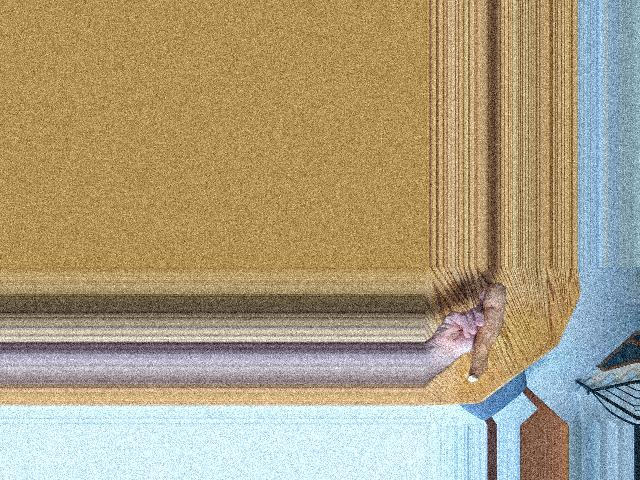sweet_potato: (464, 281, 507, 383)
